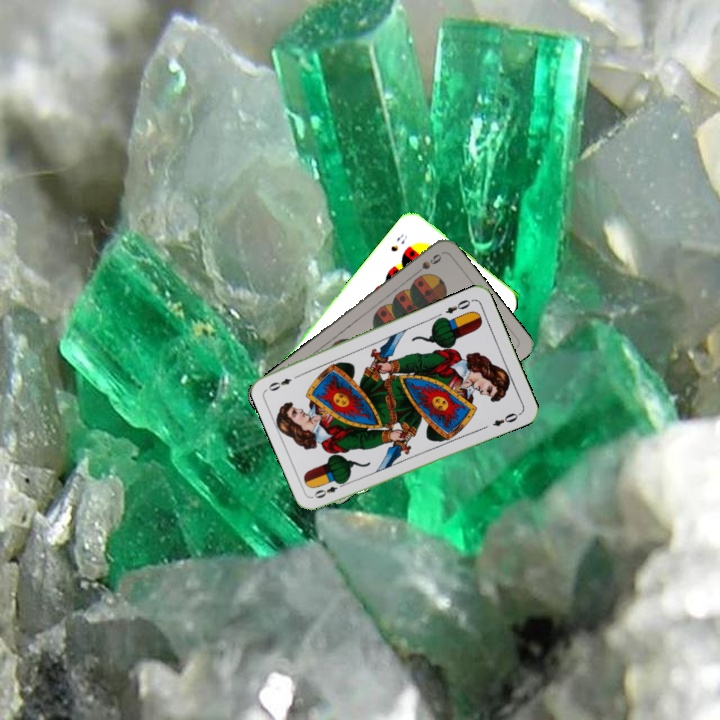EO: (310, 478, 349, 501), (441, 295, 476, 316)
S8: (386, 229, 410, 254)
S9: (409, 250, 444, 279)
